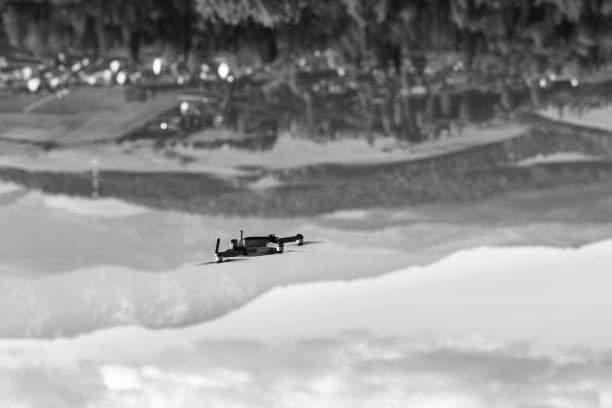Drone: (195, 226, 325, 267)
